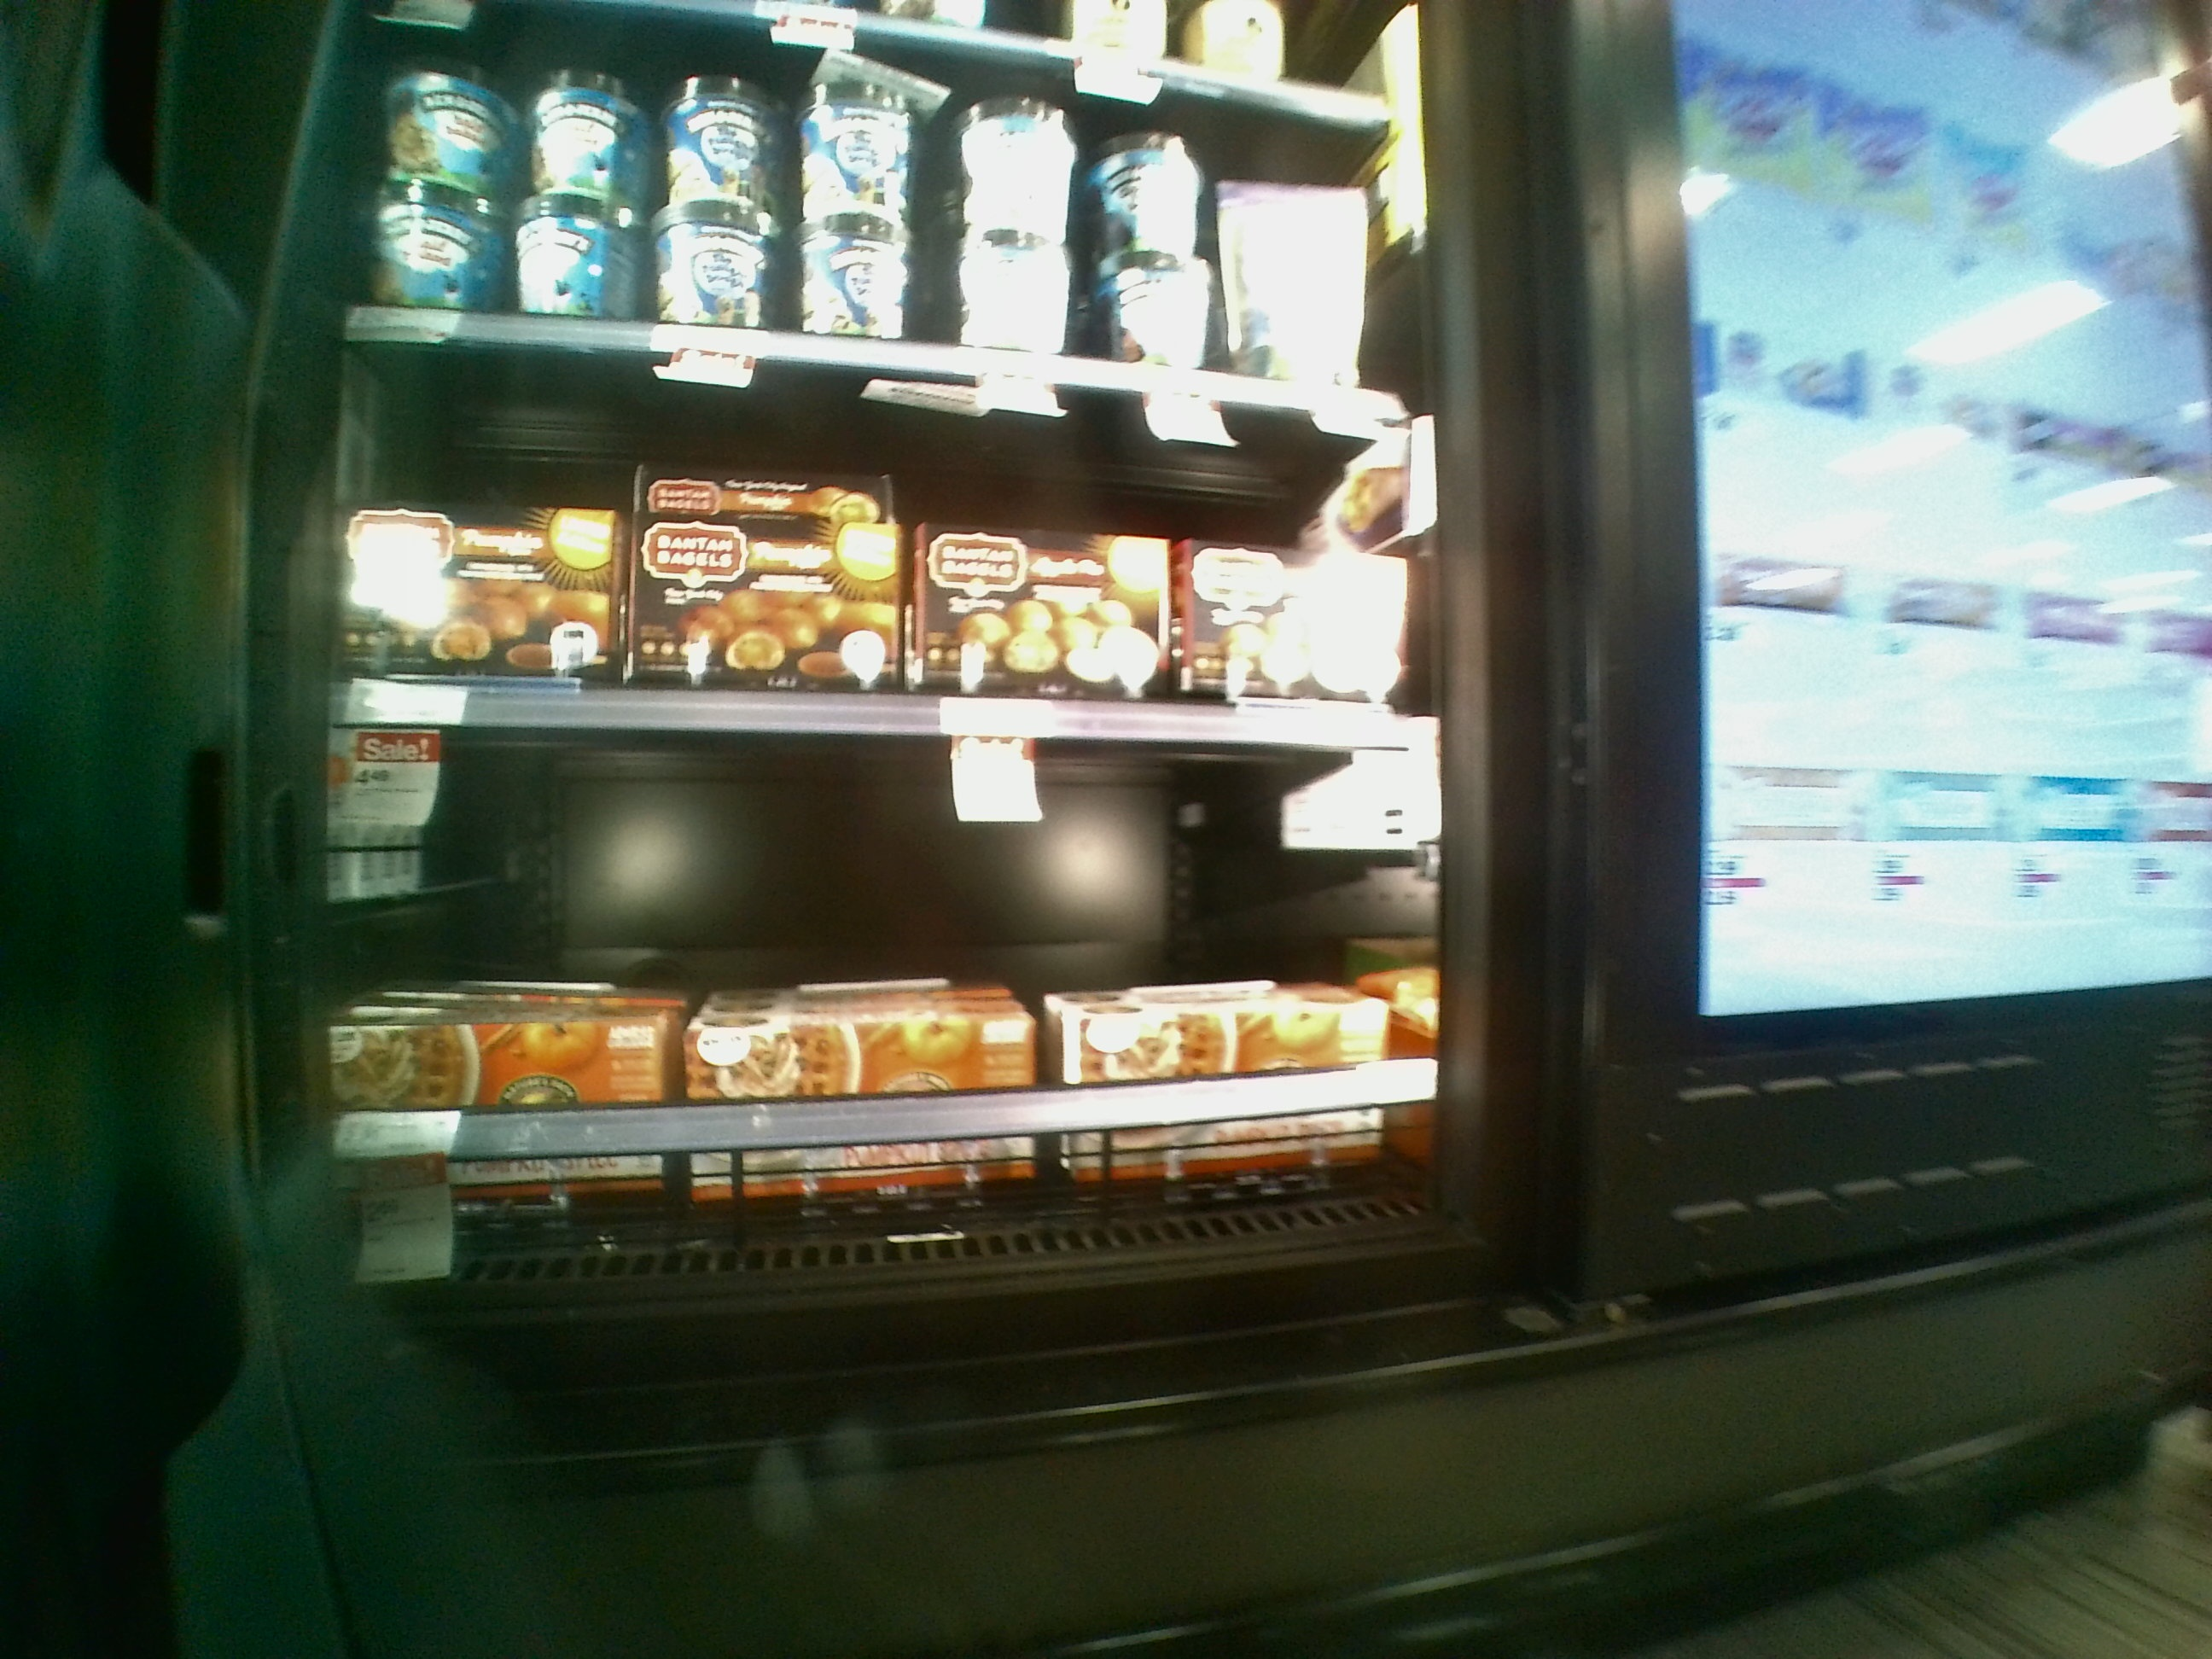shelf: (307, 695, 1524, 1286), (327, 308, 1463, 748)
